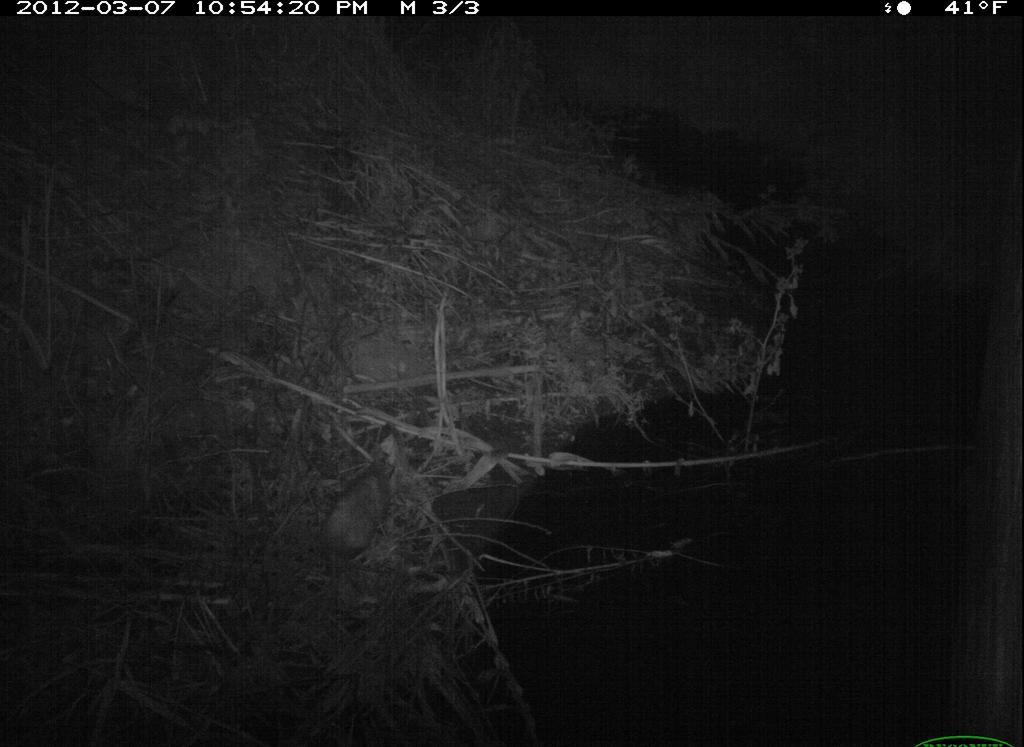opossum: (296, 441, 436, 593)
